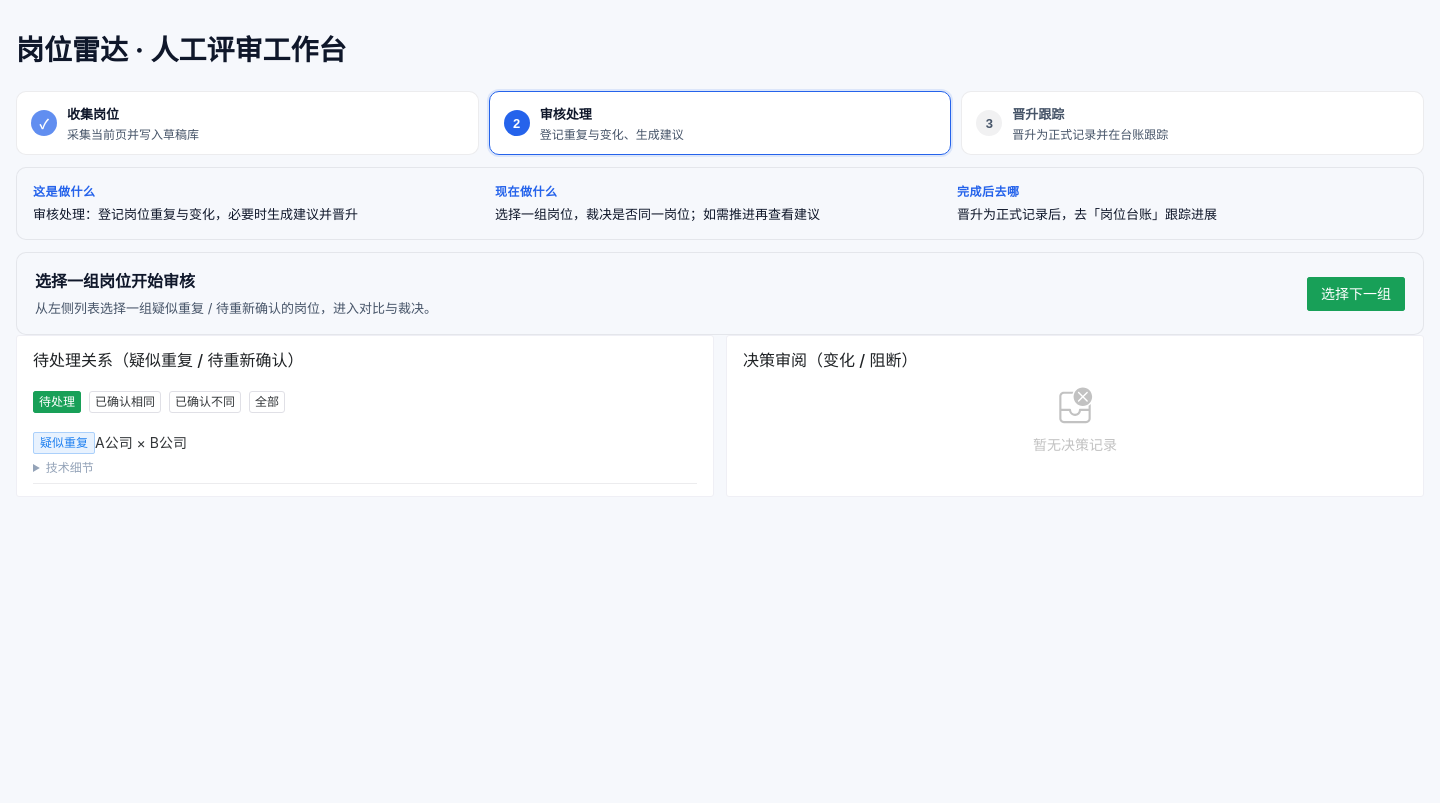
RadarReviewPage 主线接线 › 未选关系时主 CTA「选择下一组」打开首条关系
Click the button with test id "radar-next-action-cta". click: click(1356, 294)
box: top-left (1307, 276), bottom-right (1405, 310)
(page scrolled)
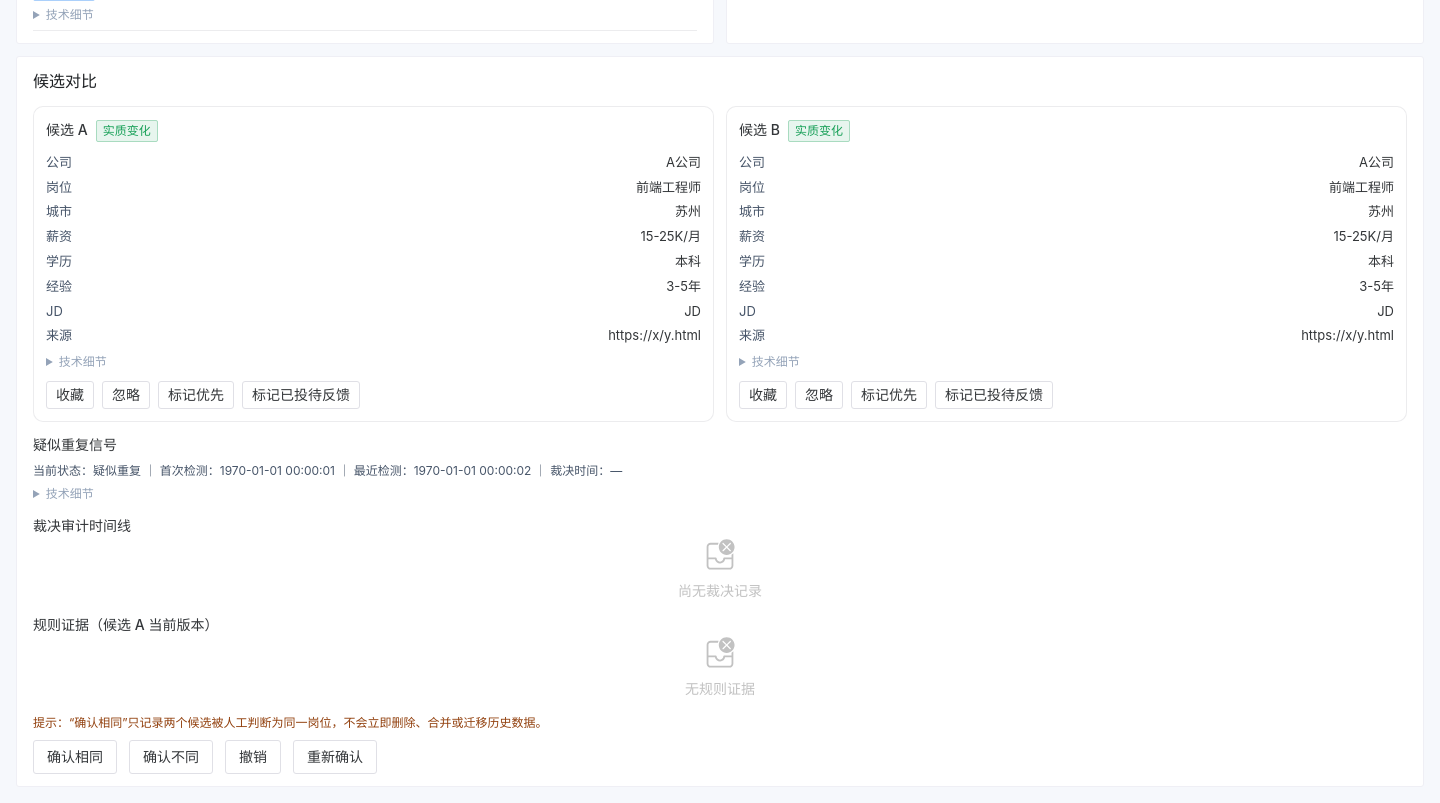
Check: the element with test id "candidate-compare" is shown
